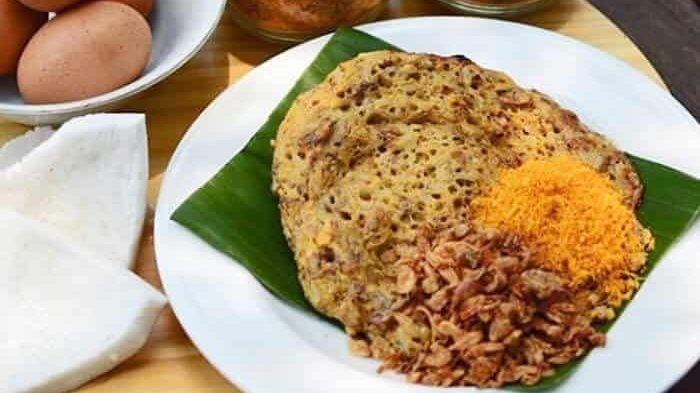kerak_telor: (269, 45, 654, 385)
